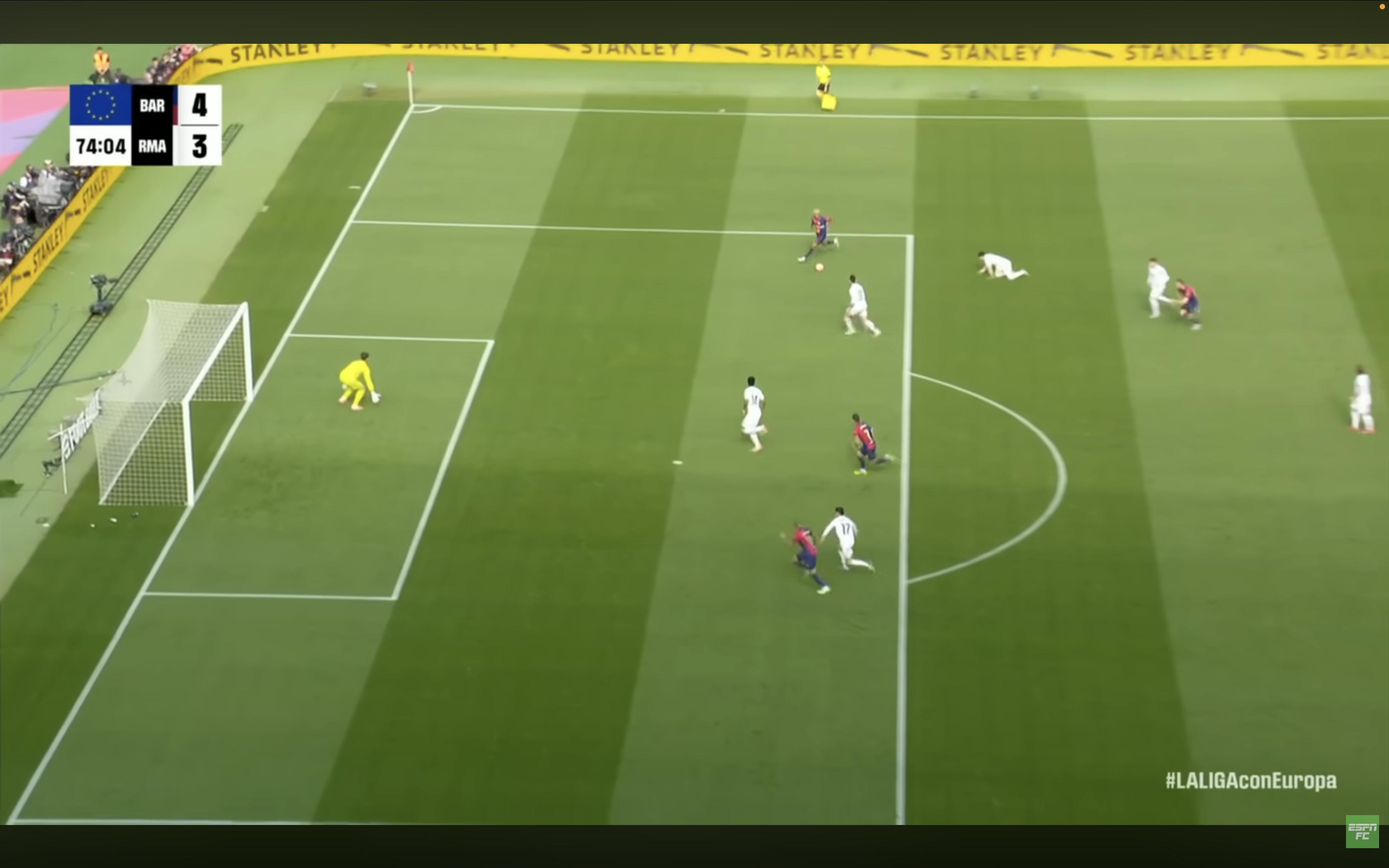ball: (815, 263, 824, 272)
goalkeeper: (339, 353, 380, 410)
player: (821, 508, 875, 571), (791, 524, 830, 594), (852, 413, 895, 475), (844, 275, 881, 337), (798, 209, 838, 261), (741, 377, 767, 452), (1351, 367, 1375, 434), (1147, 258, 1172, 318), (978, 252, 1027, 280), (1175, 279, 1201, 330), (816, 62, 831, 100)
referee: (815, 62, 837, 111)
